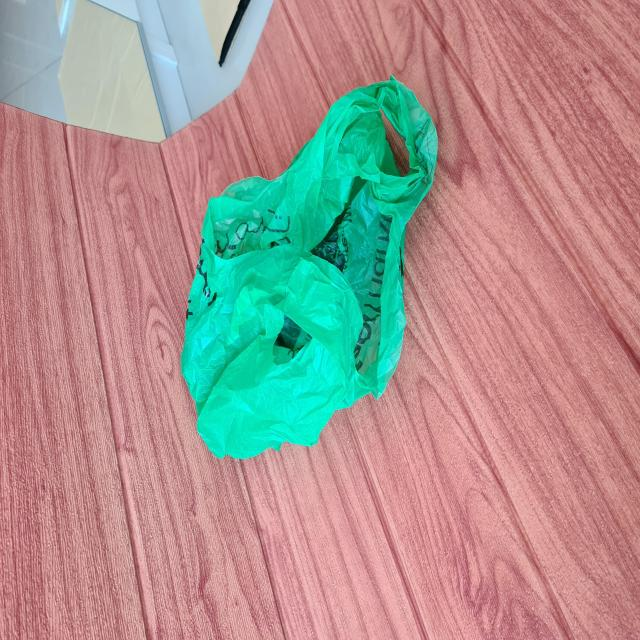plastic bag: (178, 77, 440, 462)
